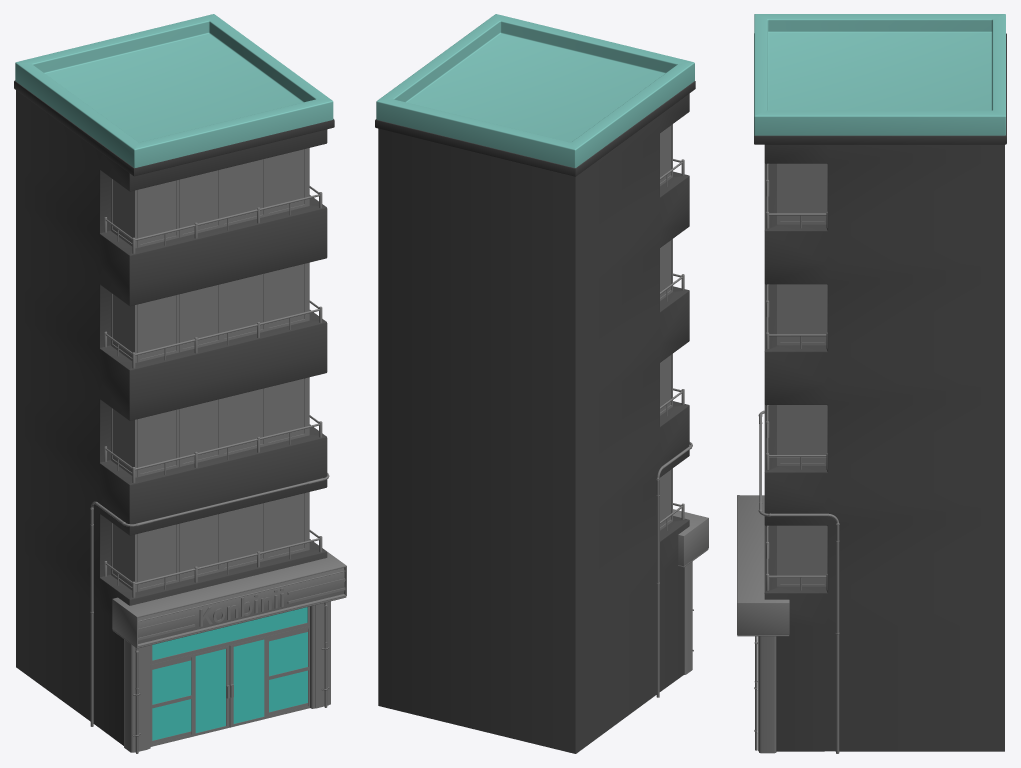
The model's file is SM_building_konbini.fbx.
The picture shows the model from 3 angles, left to right: view 1: azimuth 30°, elevation 25°; view 2: azimuth 150°, elevation 25°; view 3: azimuth 270°, elevation 25°; orthographic projection. The views are drawn at different scales.
Parts seen in each view (by area): view 1: Object1284363; view 2: Object1284363; view 3: Object1284363.
Part boxes in pixels (x1,y1,x2,y2): Object1284363: [14, 14, 346, 753]; Object1284363: [375, 14, 708, 753]; Object1284363: [737, 14, 1006, 753].
Bounding box in the file's own units: 240 × 661 × 254.
